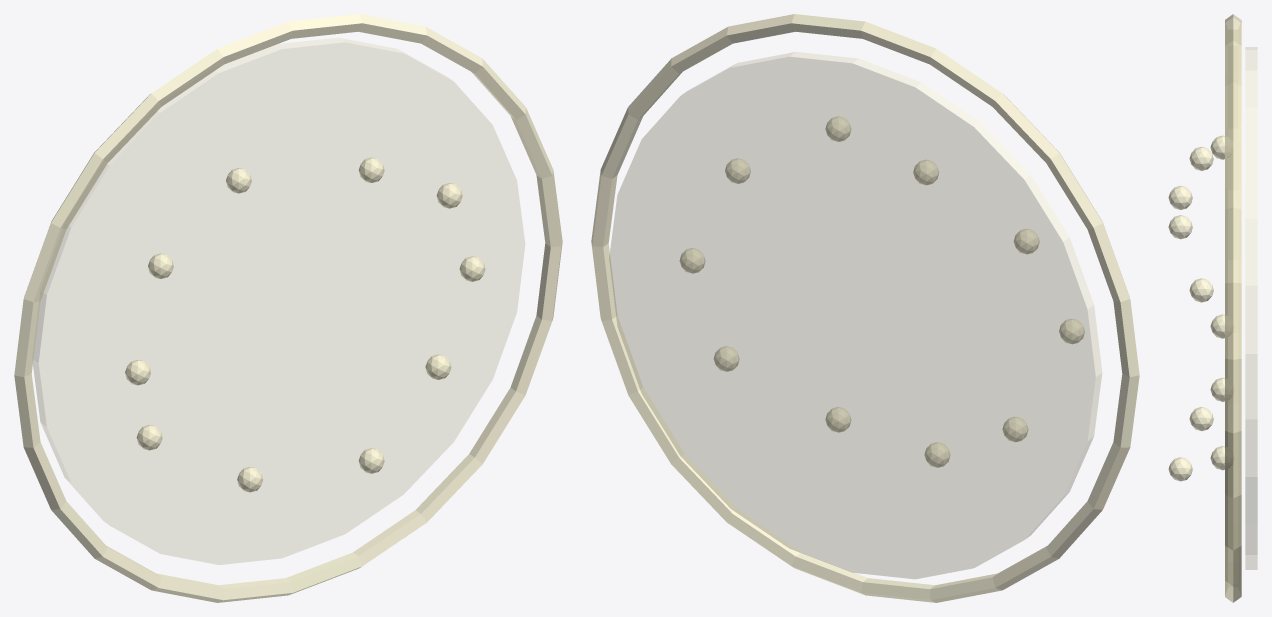
The model's file is 02_water_star_environment_overlay_2.glb.
The picture shows the model from 3 angles, left to right: view 1: azimuth 30°, elevation 25°; view 2: azimuth 150°, elevation 25°; view 3: azimuth 270°, elevation 25°; orthographic projection. The views are drawn at different scales.
Visible parts, largest first — view 1: environment_surface_disc, foam_or_star_ring; view 2: environment_surface_disc, foam_or_star_ring; view 3: foam_or_star_ring, environment_surface_disc, star_or_droplet_1, star_or_droplet_4, star_or_droplet_8, star_or_droplet_2, star_or_droplet_5, star_or_droplet_7, star_or_droplet_6, star_or_droplet_3, star_or_droplet_9, star_or_droplet_0.
Boxes of the visible parts, <box> form: environment_surface_disc: <box>33,38,524,564</box>; foam_or_star_ring: <box>14,14,562,602</box>; environment_surface_disc: <box>609,52,1101,578</box>; foam_or_star_ring: <box>591,14,1139,602</box>; foam_or_star_ring: <box>1225,14,1241,602</box>; environment_surface_disc: <box>1245,47,1257,569</box>; star_or_droplet_1: <box>1189,278,1213,302</box>; star_or_droplet_4: <box>1189,146,1213,170</box>; star_or_droplet_8: <box>1168,457,1192,481</box>; star_or_droplet_2: <box>1168,185,1192,209</box>; star_or_droplet_5: <box>1168,215,1192,239</box>; star_or_droplet_7: <box>1189,407,1213,431</box>; star_or_droplet_6: <box>1210,314,1224,338</box>; star_or_droplet_3: <box>1210,135,1224,159</box>; star_or_droplet_9: <box>1210,446,1224,470</box>; star_or_droplet_0: <box>1210,377,1224,401</box>.
Size of the model in its own units: 1.69 by 1.69 by 0.2545.
